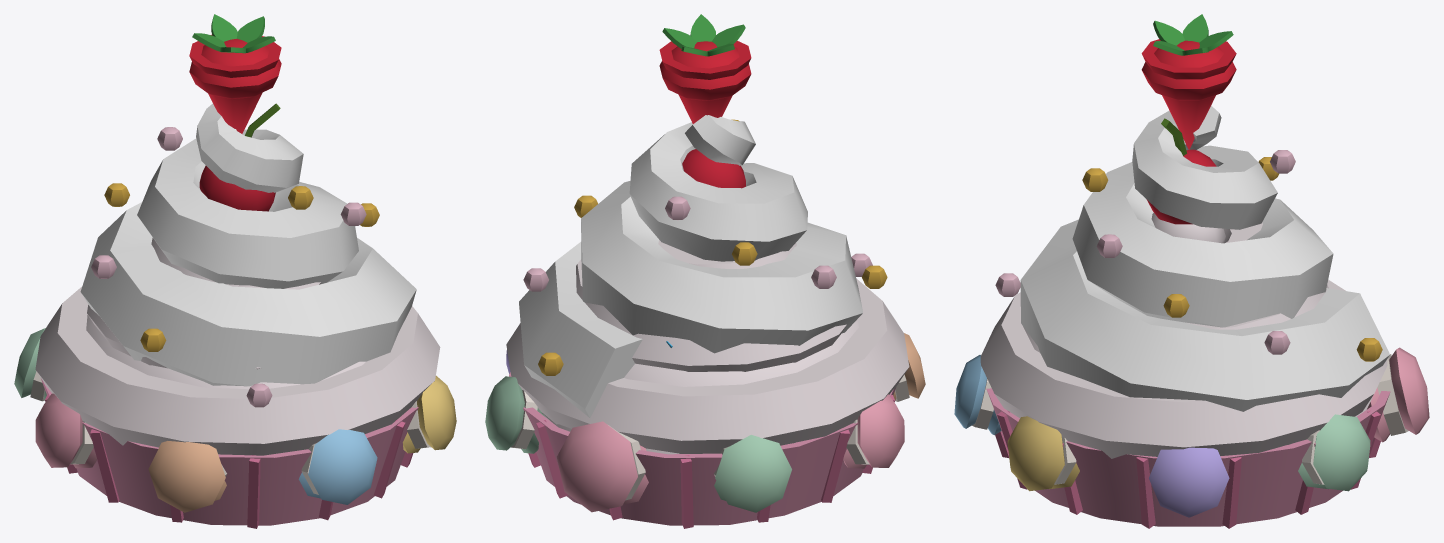
File: 2026-11-22_chapeau.glb
3 renders of one model, left to right at view 1: azimuth 30°, elevation 25°; view 2: azimuth 150°, elevation 25°; view 3: azimuth 270°, elevation 25°, orthographic.
Visible parts, largest first — view 1: chapeau_chantilly_royale, chapeau_cupcake_geant, chapeau_couronne_de_macarons; view 2: chapeau_chantilly_royale, chapeau_cupcake_geant, chapeau_couronne_de_macarons; view 3: chapeau_chantilly_royale, chapeau_cupcake_geant, chapeau_couronne_de_macarons.
Part boxes in pixels (left/top/right/bottom): chapeau_chantilly_royale: left=80, top=14, right=416, bottom=407; chapeau_cupcake_geant: left=35, top=103, right=440, bottom=528; chapeau_couronne_de_macarons: left=14, top=328, right=456, bottom=512; chapeau_chantilly_royale: left=519, top=14, right=887, bottom=417; chapeau_cupcake_geant: left=506, top=149, right=909, bottom=528; chapeau_couronne_de_macarons: left=485, top=333, right=925, bottom=512; chapeau_chantilly_royale: left=995, top=14, right=1389, bottom=411; chapeau_cupcake_geant: left=980, top=118, right=1390, bottom=528; chapeau_couronne_de_macarons: left=954, top=347, right=1429, bottom=517.
Bounding box in the file's own units: 0.375 × 0.3959 × 0.3999.
